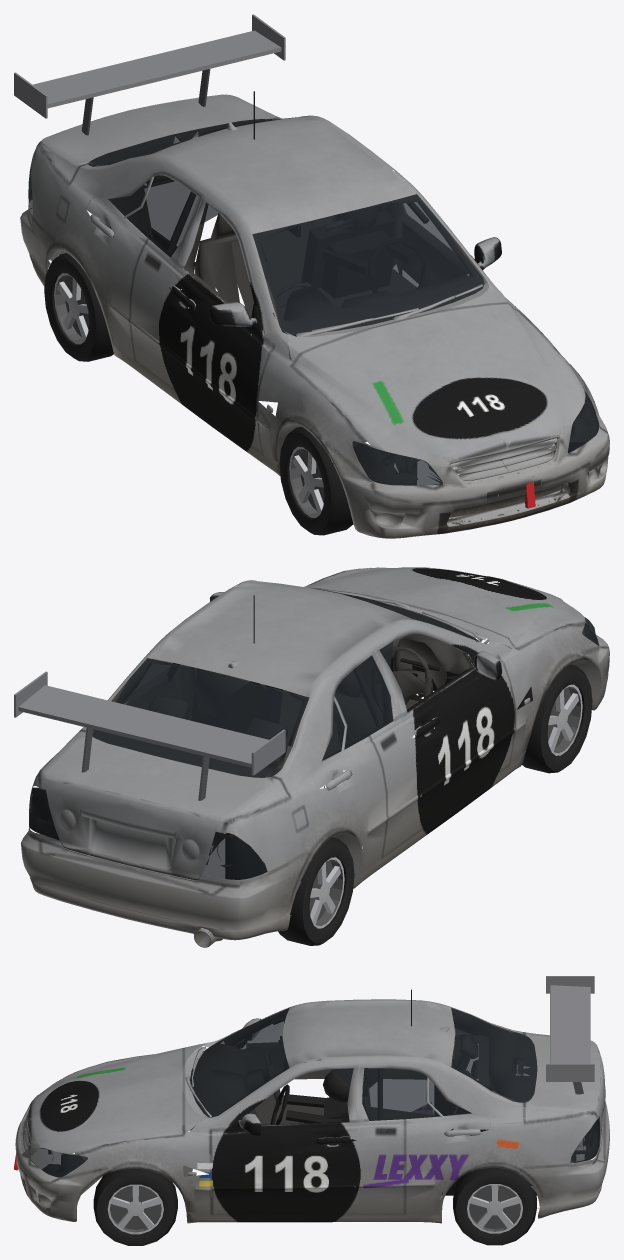
3 views of the same model, one above another, from view 1: azimuth 30°, elevation 25°; view 2: azimuth 150°, elevation 25°; view 3: azimuth 270°, elevation 25° (orthographic). The views are drawn at different scales.
Visible parts, largest first — view 1: body, wheel_fr, wheel_rr; view 2: body, wheel_fr, wheel_rr; view 3: body, wheel_fl, wheel_rl.
Boxes of the visible parts, x1,y1,x2,y2 form: body: (14,14,609,538); wheel_fr: (279,426,353,535); wheel_rr: (44,253,113,361); body: (14,567,609,947); wheel_fr: (517,664,592,773); wheel_rr: (278,837,354,945); body: (14,976,609,1223); wheel_fl: (93,1169,177,1245); wheel_rl: (453,1167,536,1245).
Size of the model in its own units: 1.88 by 1.72 by 4.43.
2 materials, 1 textured.
